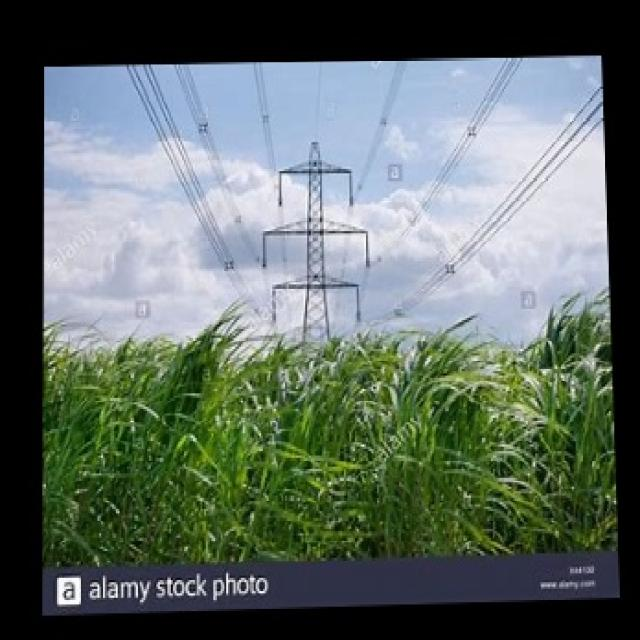utility poles: (261, 143, 371, 557)
